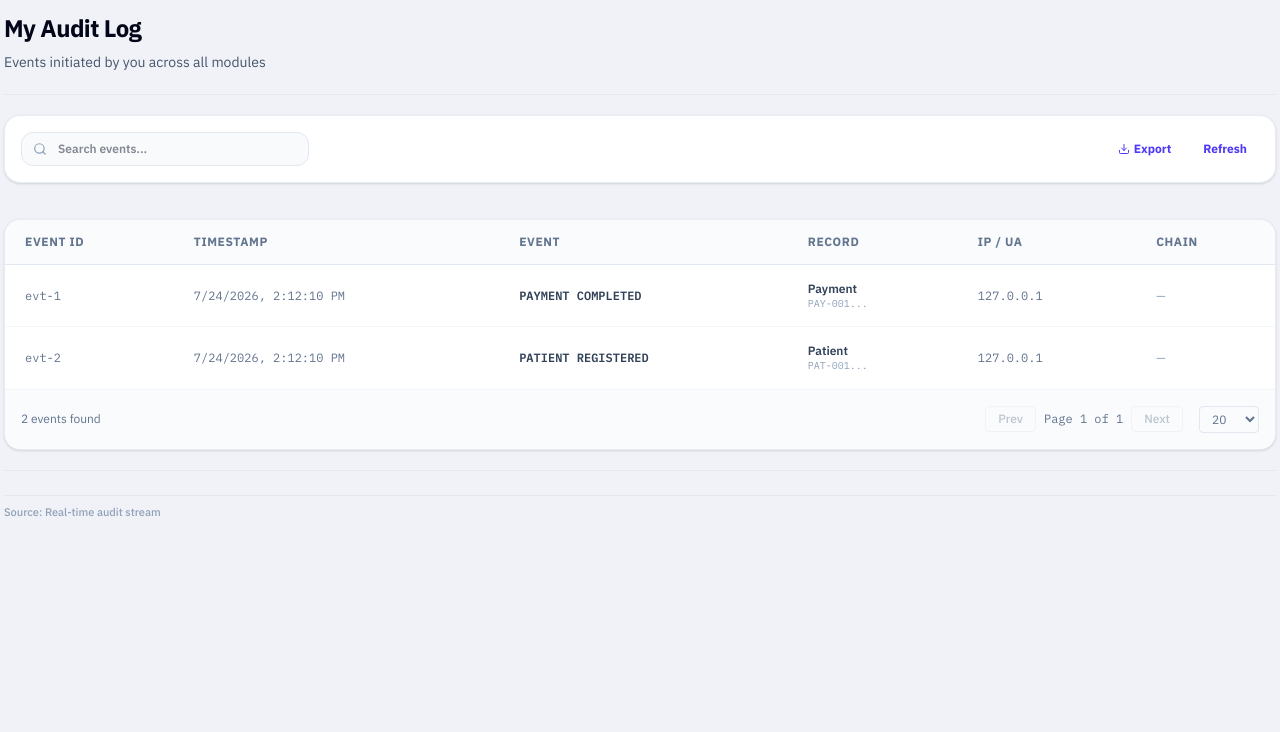
it: MyAuditLogPage Search Tests › filters events by search text using client-side matching
The width and height of the screenshot is (1280, 732).
Check: the text "PAYMENT COMPLETED" is shown, box [519,288,642,303]
Check: the text "PATIENT REGISTERED" is shown, box [519,350,649,365]
Type "payment" into the field with placeholder "Search events..." at {"x": 165, "y": 149}, box [21,132,309,166]
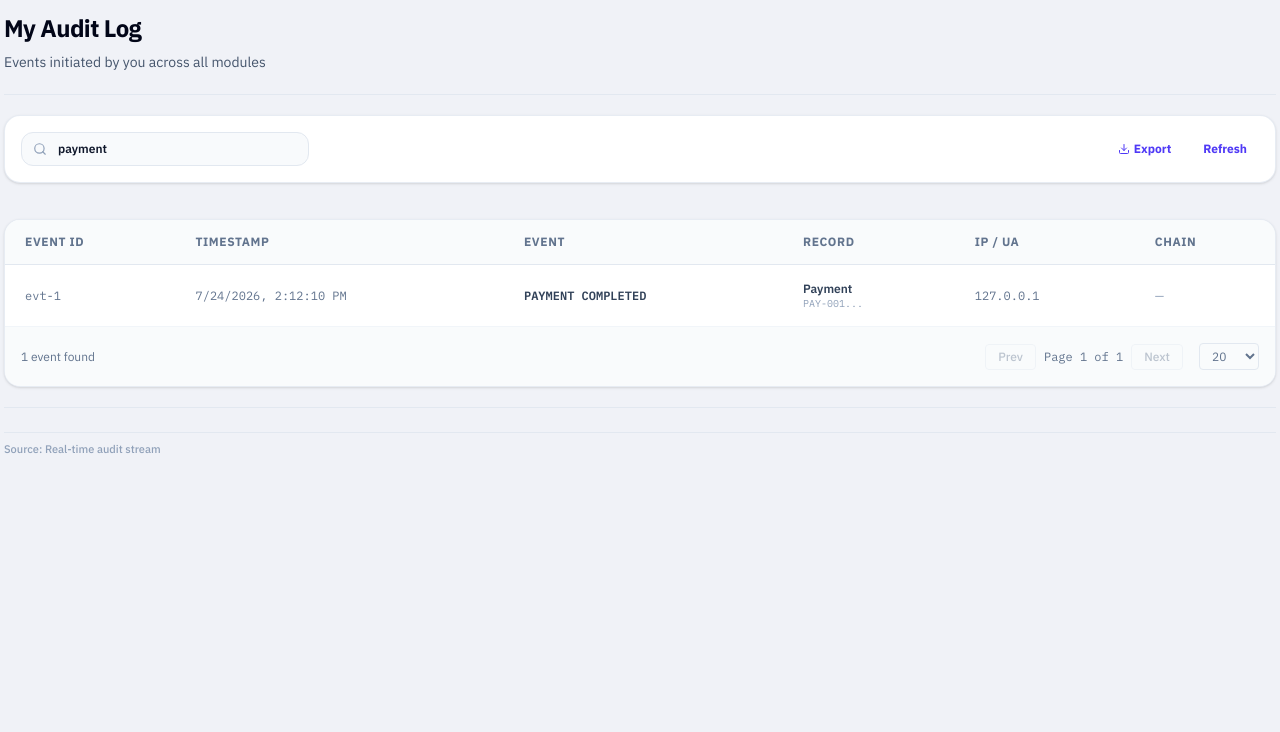
Check: the text "PAYMENT COMPLETED" is shown, box [524,288,646,303]
Check: the text "PATIENT REGISTERED" is gone
